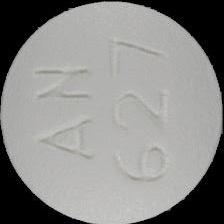10544-531: (0, 0, 224, 224)
